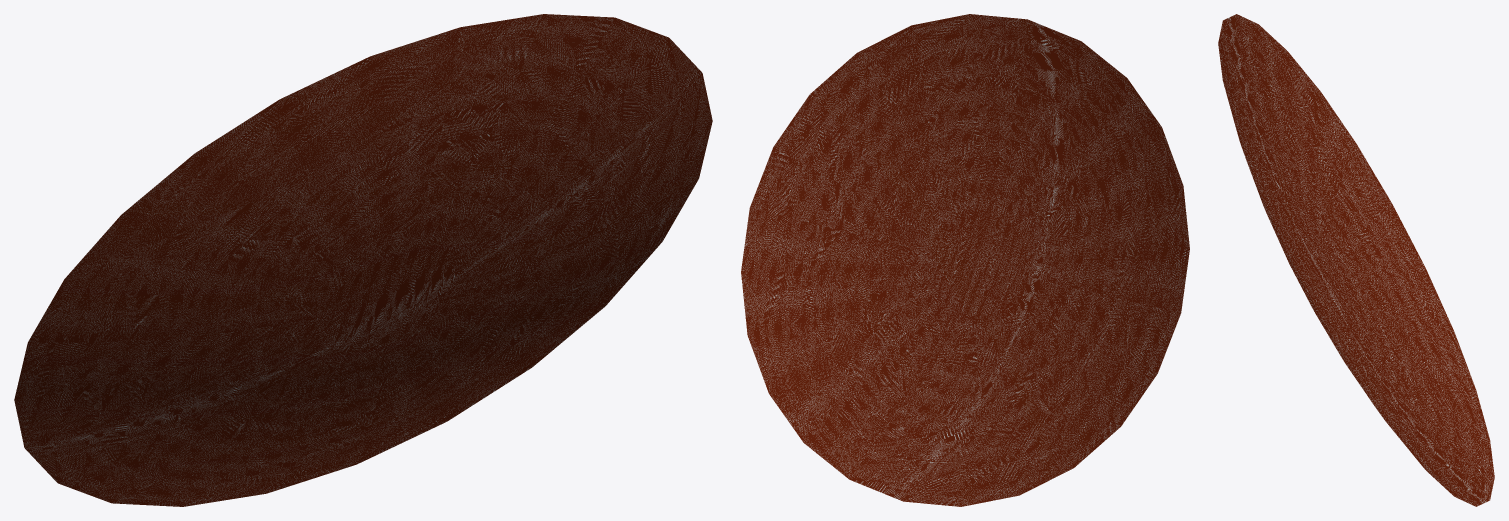
Rendered from original-25.obj.
The picture shows the model from 3 angles, left to right: view 1: azimuth 30°, elevation 25°; view 2: azimuth 150°, elevation 25°; view 3: azimuth 270°, elevation 25°; orthographic projection. The views are drawn at different scales.
Visible parts, largest first — view 1: mesh16/mesh16-geometry#mesh16-geometry; view 2: mesh16/mesh16-geometry#mesh16-geometry; view 3: mesh16/mesh16-geometry#mesh16-geometry.
Part boxes in pixels (x1,y1,x2,y2): mesh16/mesh16-geometry#mesh16-geometry: (14, 14, 712, 506); mesh16/mesh16-geometry#mesh16-geometry: (741, 14, 1189, 506); mesh16/mesh16-geometry#mesh16-geometry: (1218, 14, 1494, 506).
Bounding box in the file's own units: 0.0454 × 0.0393 × 0.0227.
